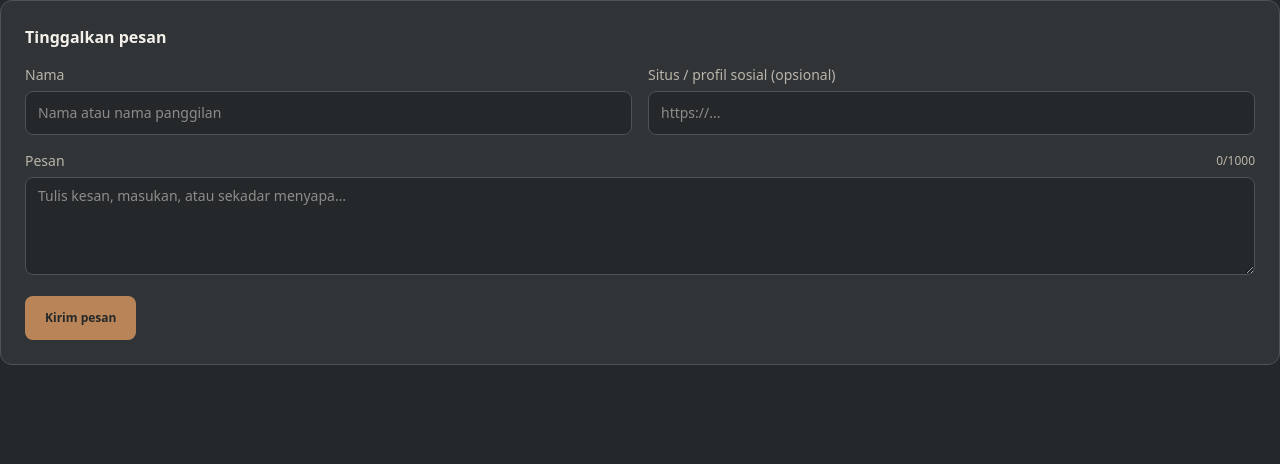
Test: GuestbookForm › renders field errors on failure
Type "Invalid User" into the field labelled "Nama".
click(328, 113); type("Invalid User")  # box [25,91,632,135]
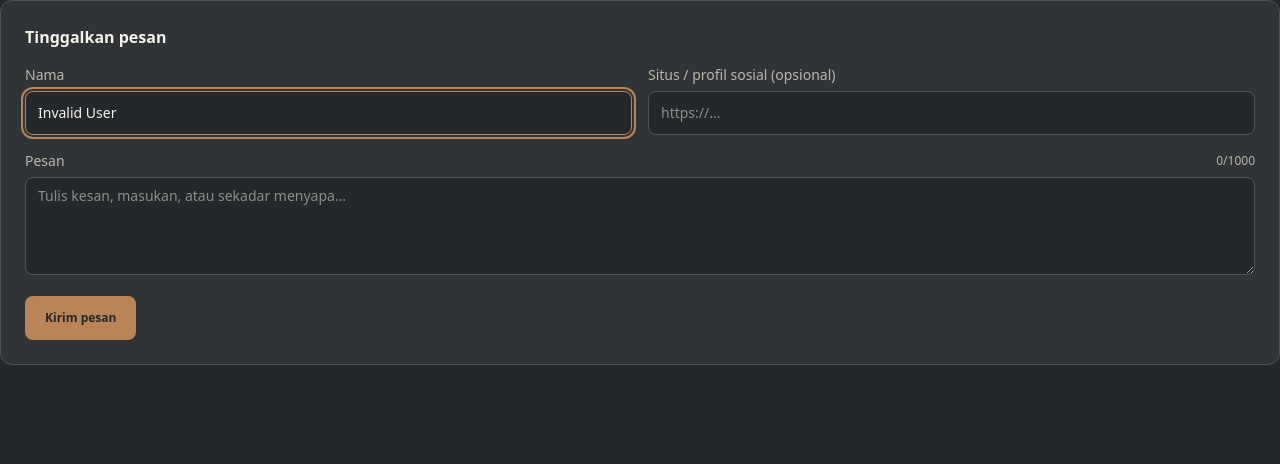
Type "Pesan yang dicoba" into the text box labelled "Pesan 0/1000".
click(640, 226); type("Pesan yang dicoba")  # box [25,177,1255,275]
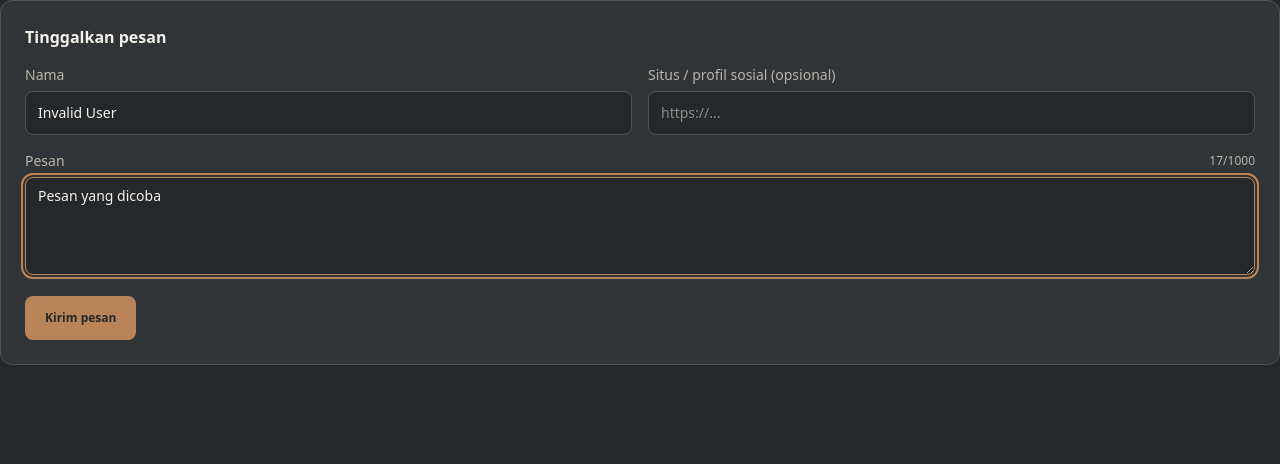
Click the button "Kirim pesan".
click(81, 318)  # box [25,296,136,340]
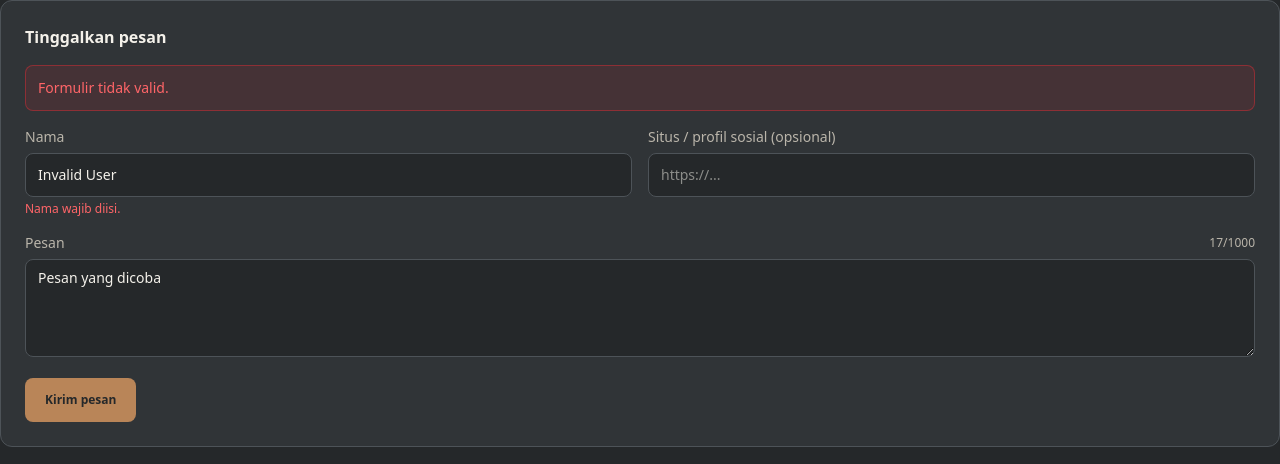
Now the message reads "Formulir tidak valid.", box [38,78,169,97]
Now the text "Nama wajib diisi." is shown, box [25,200,120,217]
